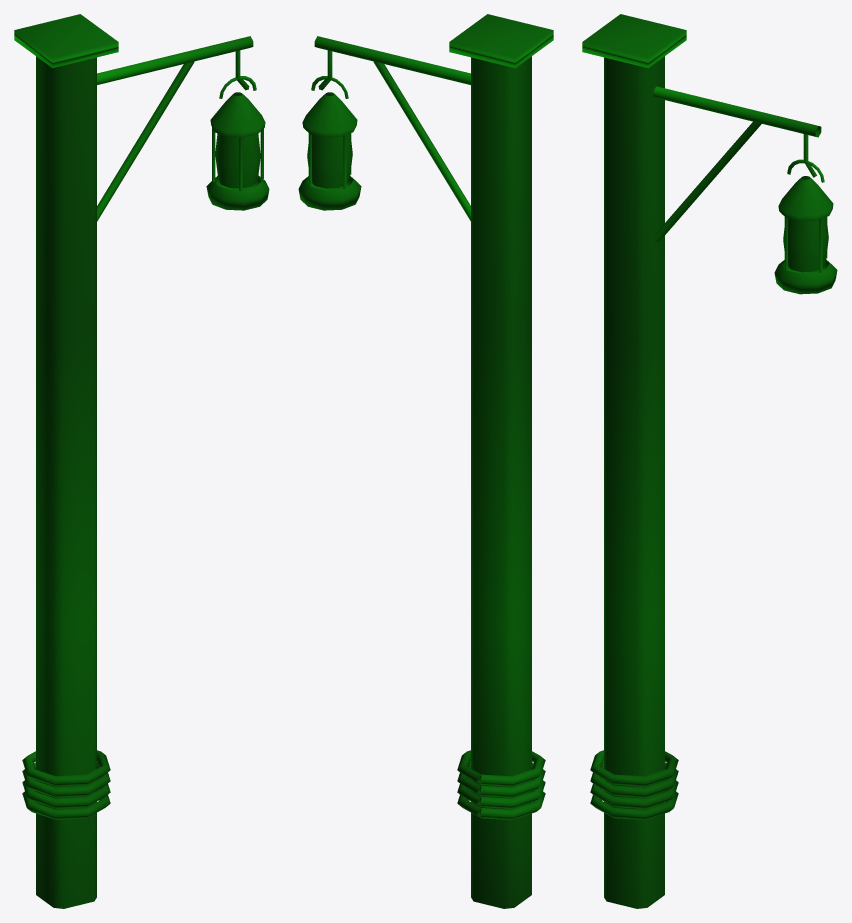
File: lamp_post.glb
3 views of the same model, side by side, from view 1: azimuth 30°, elevation 25°; view 2: azimuth 150°, elevation 25°; view 3: azimuth 330°, elevation 25° (orthographic).
Parts seen in each view (by area): view 1: lamp_post; view 2: lamp_post; view 3: lamp_post.
Boxes of the visible parts, <box> form: lamp_post: <box>14,14,269,908</box>; lamp_post: <box>298,14,553,908</box>; lamp_post: <box>582,14,837,908</box>.
Size of what is drawn, in the model's own units: 0.7652 by 2.64 by 0.2532.
